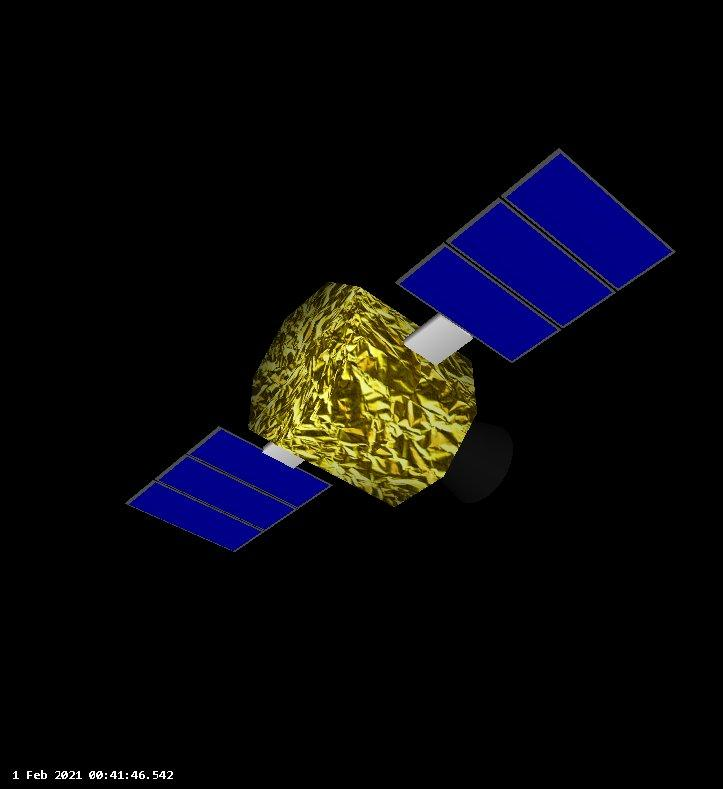body: (248, 278, 481, 511)
solar: (396, 144, 679, 365), (125, 425, 334, 556)
thruster: (441, 418, 516, 506)
